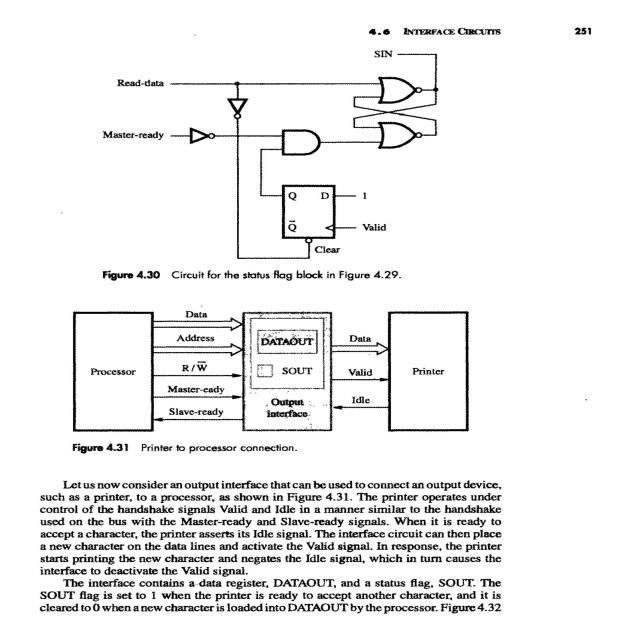diagram: (58, 45, 546, 476)
